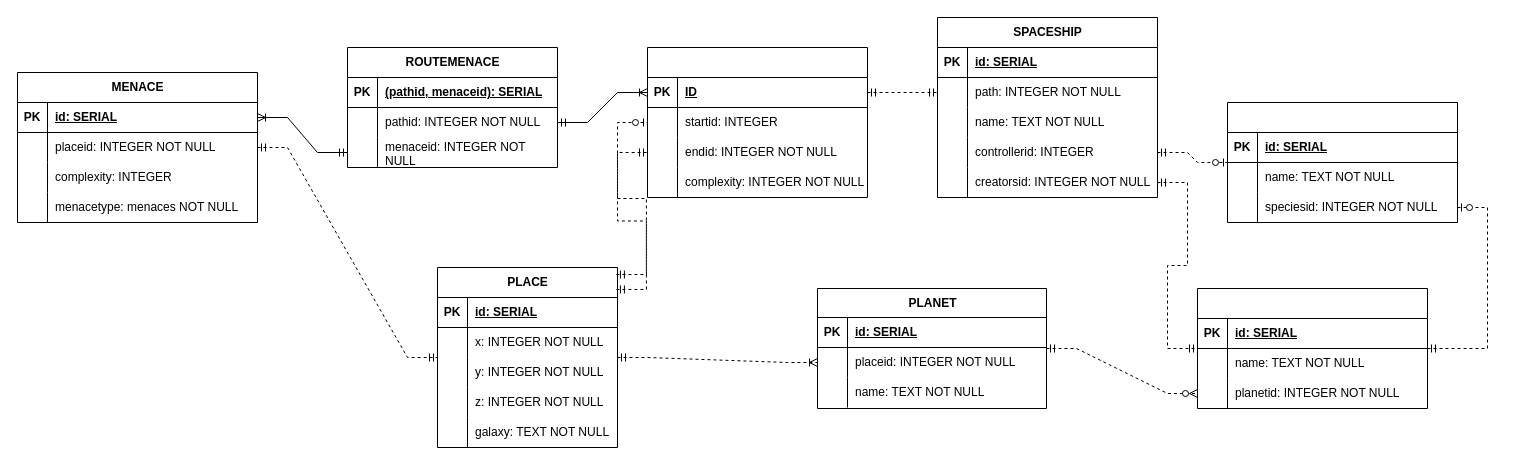
This 1514x465 diagram has some shape labels left out. Here are the shapes that lost their labels. From the top down, the box of each, then its label:
(646, 46, 868, 198): ROUTE
(1226, 102, 1458, 222): CONTROLLER
(1196, 288, 1428, 408): SPECIES
